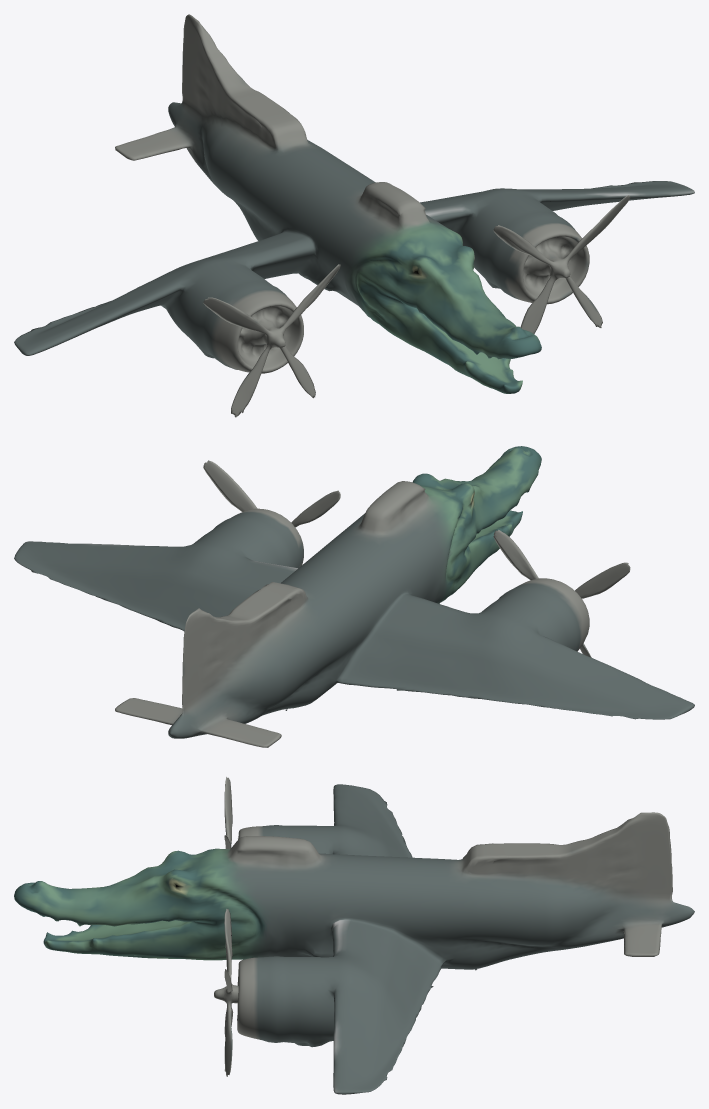
File: BoombardiloCroc.glb
3 renders of one model, top to bottom at view 1: azimuth 30°, elevation 25°; view 2: azimuth 150°, elevation 25°; view 3: azimuth 270°, elevation 25°, orthographic. The views are drawn at different scales.
Parts seen in each view (by area): view 1: model; view 2: model; view 3: model.
Boxes of the visible parts, <box> form: model: <box>14,14,694,417</box>; model: <box>14,446,694,747</box>; model: <box>14,777,694,1094</box>.
Bounding box in the file's own units: 3.79 × 1.04 × 3.54.
